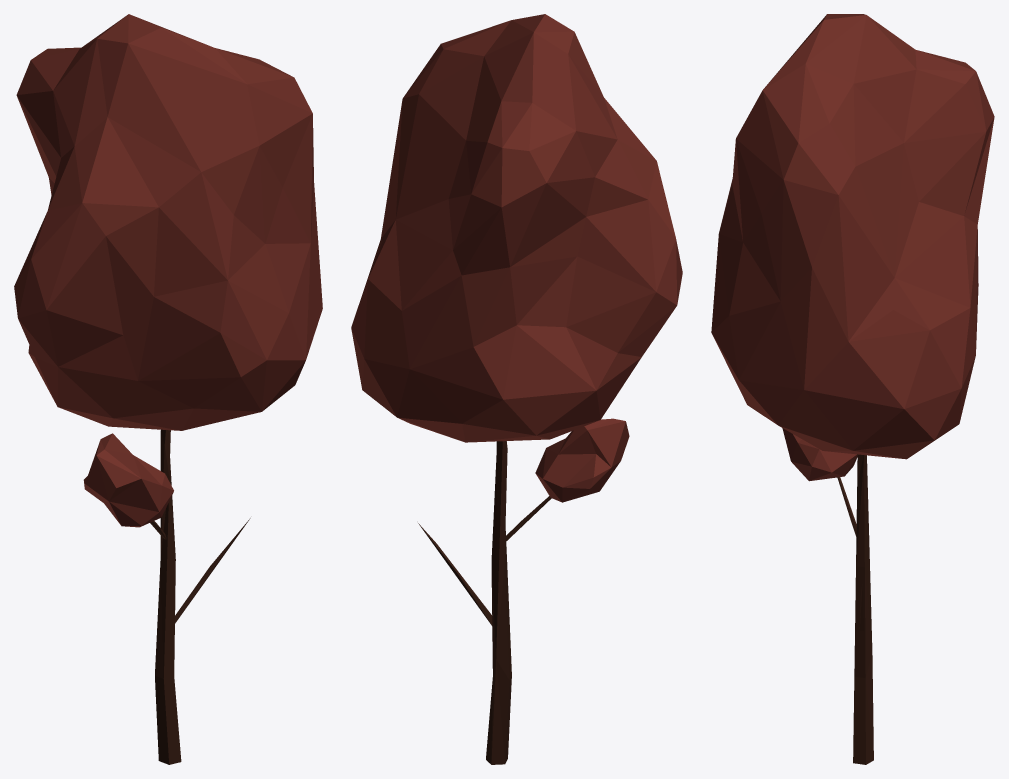
The model's file is brown_tree2.obj.
3 renders of one model, left to right at view 1: azimuth 30°, elevation 25°; view 2: azimuth 150°, elevation 25°; view 3: azimuth 270°, elevation 25°, orthographic. The views are drawn at different scales.
Parts seen in each view (by area): view 1: Tree3_1_Cylinder.021; view 2: Tree3_1_Cylinder.021; view 3: Tree3_1_Cylinder.021.
Boxes of the visible parts, left/top/right/bottom form: Tree3_1_Cylinder.021: left=14, top=14, right=322, bottom=764; Tree3_1_Cylinder.021: left=351, top=14, right=682, bottom=764; Tree3_1_Cylinder.021: left=711, top=14, right=994, bottom=764.
Size of the model in its own units: 5.54 by 13.51 by 4.77.
